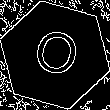O_S: (27, 25, 83, 85)
